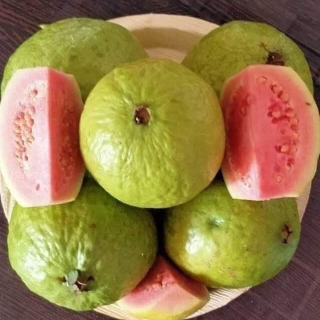oi: (80, 58, 225, 210)
